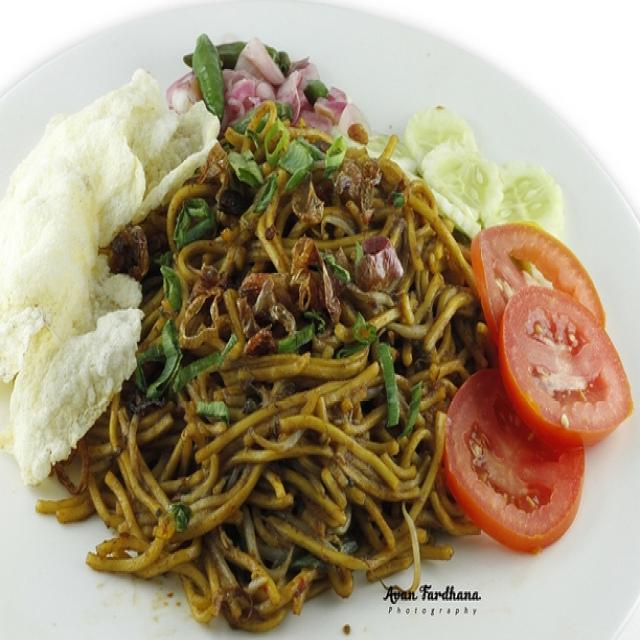面条主食: (16, 28, 617, 623)
